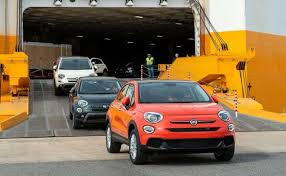car: (106, 81, 235, 163), (69, 77, 123, 128), (52, 56, 97, 89), (87, 54, 108, 77)
